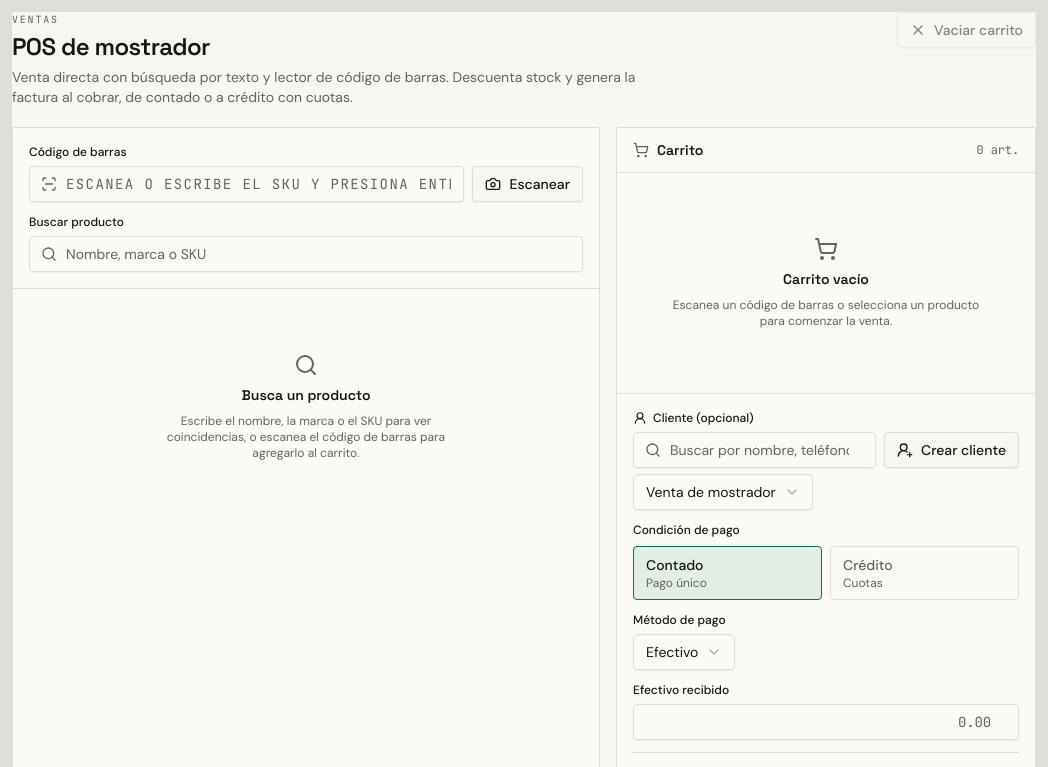
Test: PosPage customer seam › offers every registered customer in the customer dropdown
What coordinates should you click on to do the following:
click the dropdown with test id "pos.customer_select"
I would click on:
 (723, 492)
Its box is [633, 474, 813, 510].
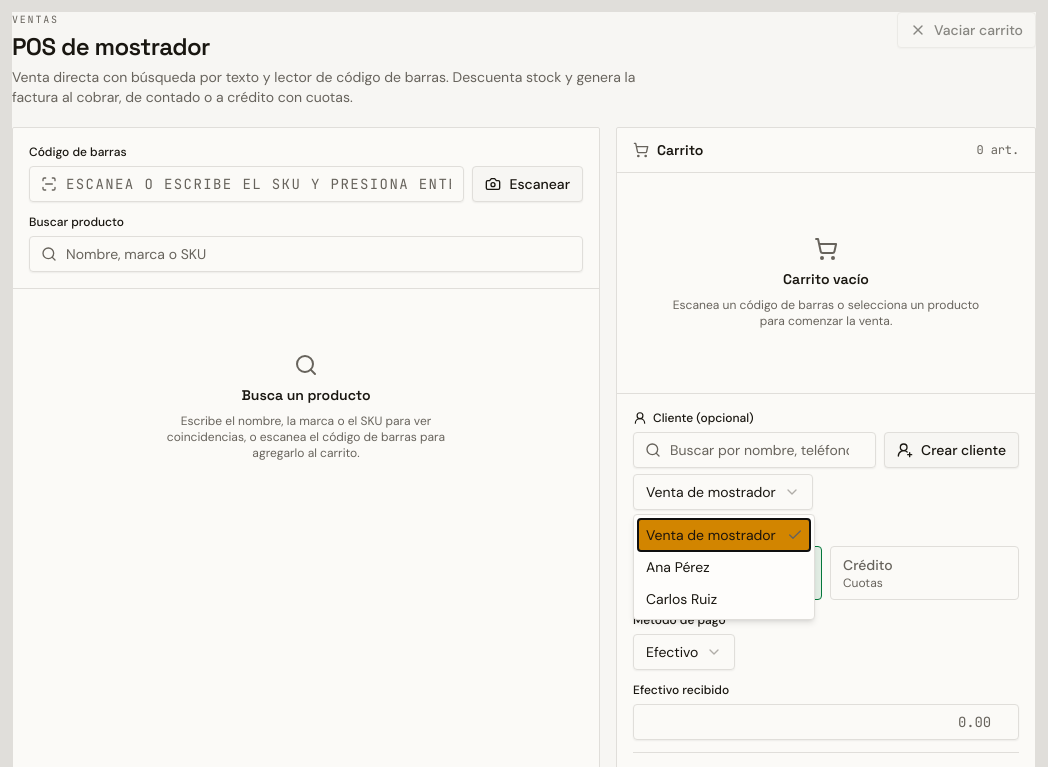
Check: the option "Ana Pérez" is shown, box [646, 558, 710, 576]
Check: the option "Carlos Ruiz" is shown, box [646, 590, 717, 608]
Check: the option "Venta de mostrador" is shown, box [638, 519, 810, 551]
